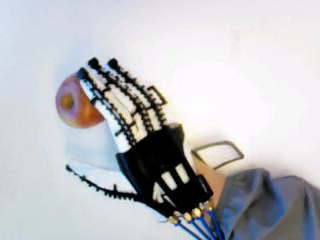apple: (54, 69, 108, 129)
hand: (65, 56, 211, 224)
